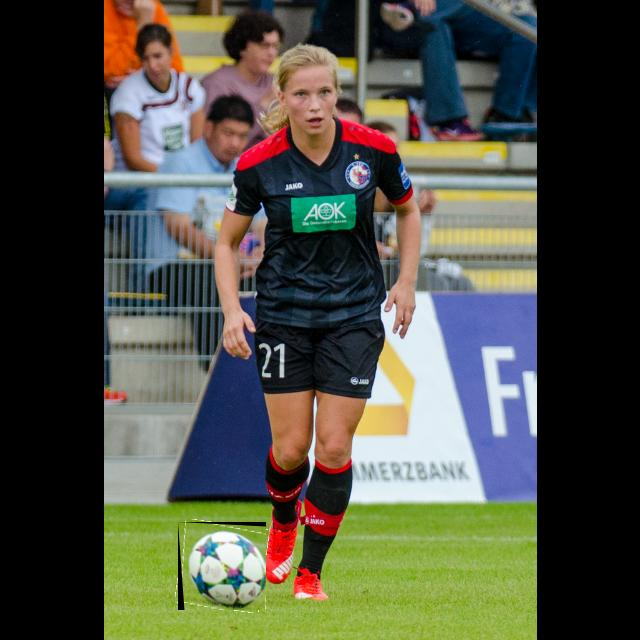Football: (178, 522, 266, 610)
